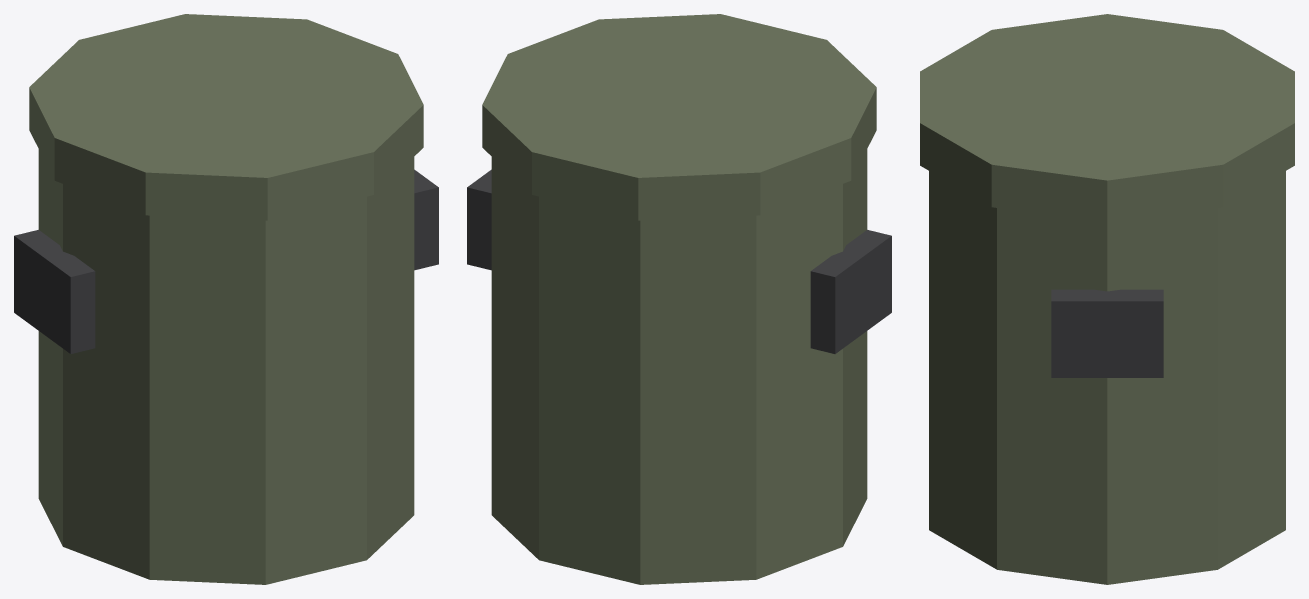
The model's file is fb_mermite.glb.
3 views of the same model, side by side, from view 1: azimuth 30°, elevation 25°; view 2: azimuth 150°, elevation 25°; view 3: azimuth 270°, elevation 25° (orthographic).
Visible parts, largest first — view 1: fb_mermite; view 2: fb_mermite; view 3: fb_mermite.
Part boxes in pixels (x1,y1,x2,y2): fb_mermite: [14, 14, 438, 584]; fb_mermite: [467, 14, 891, 584]; fb_mermite: [920, 14, 1294, 584].
Size of what is drawn, in the model's own units: 0.45 by 0.48 by 0.3994.
